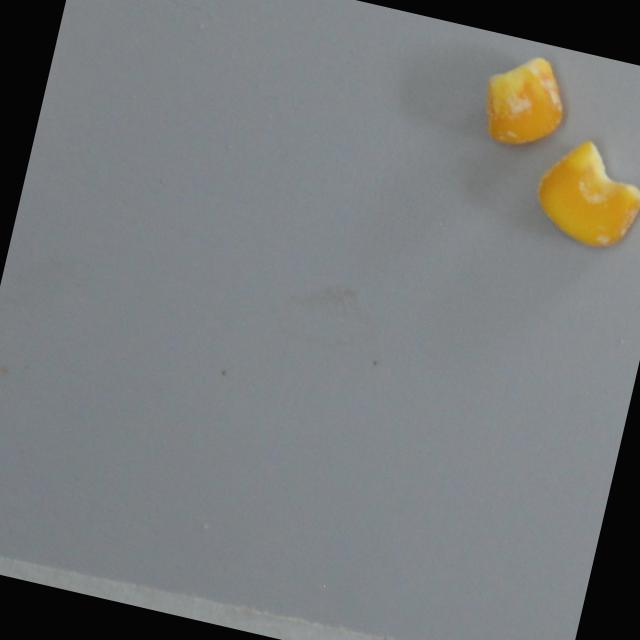pelicula: (525, 130, 640, 256), (473, 45, 574, 156)
